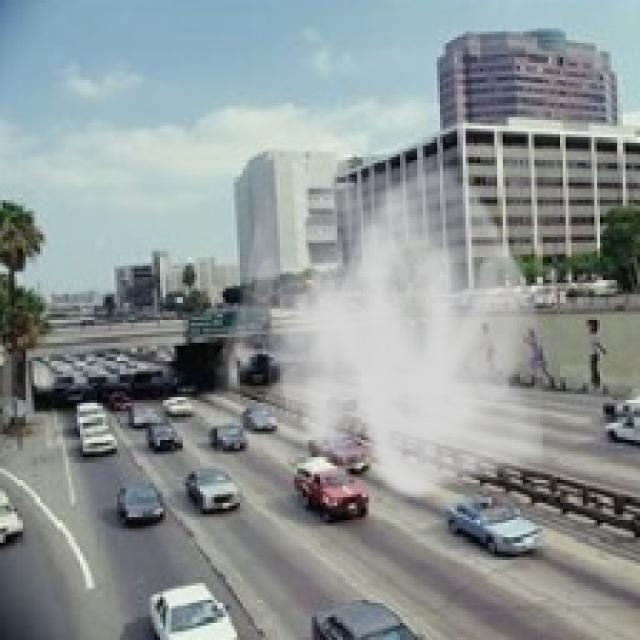Smoke: (208, 148, 554, 503)
